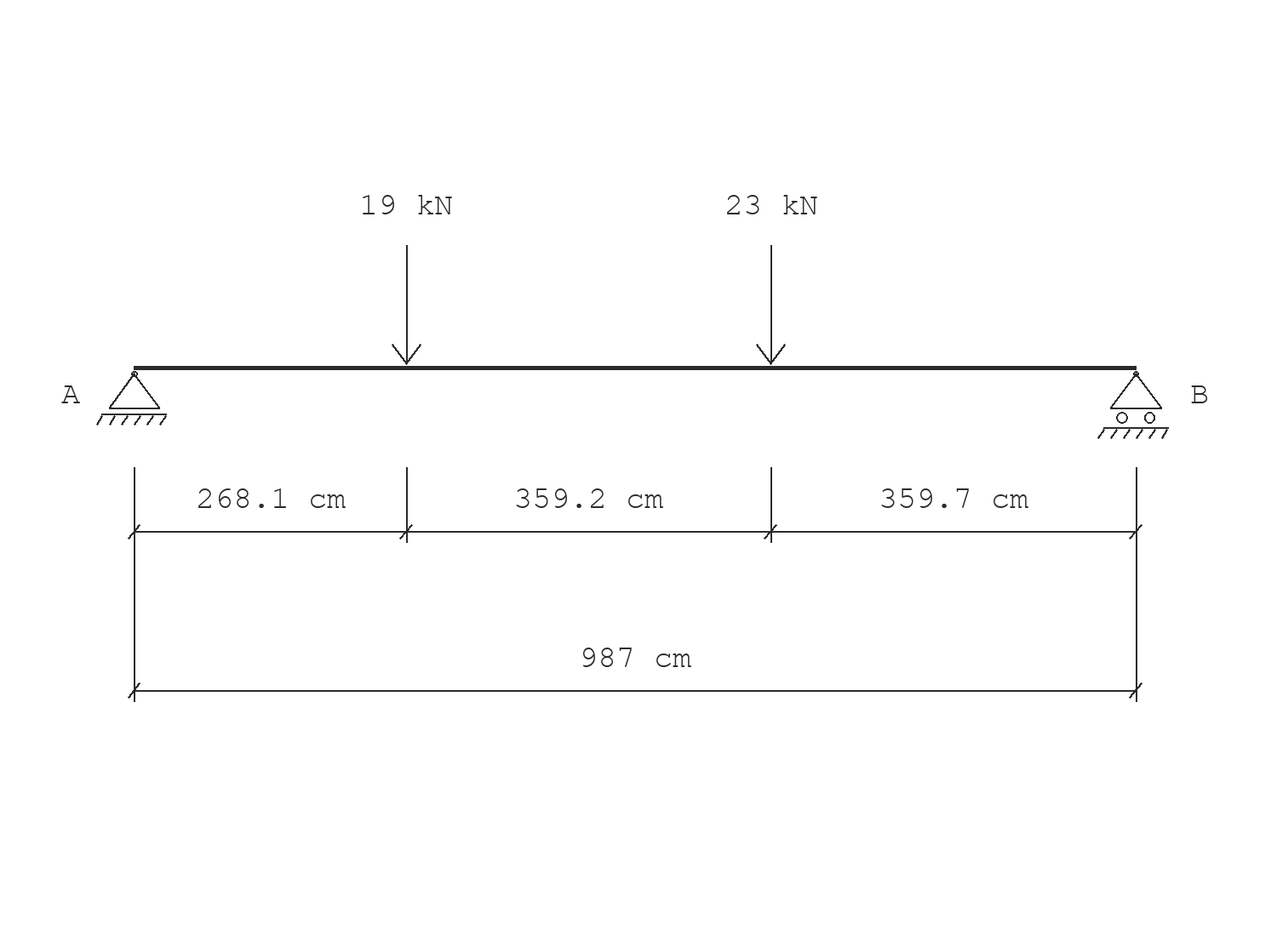pin_support: (96, 371, 167, 425)
point_load: (756, 245, 786, 365), (392, 245, 421, 365)
roller_support: (1097, 371, 1169, 439)
